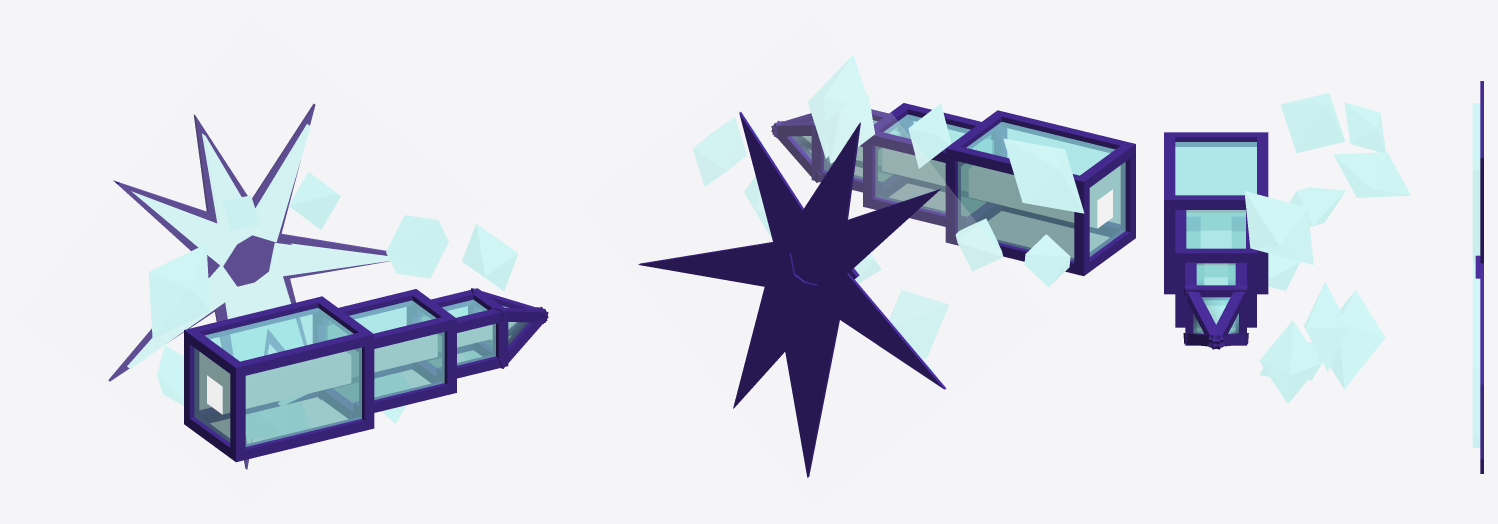
File: fx_spellpierce.glb
The picture shows the model from 3 angles, left to right: view 1: azimuth 30°, elevation 25°; view 2: azimuth 150°, elevation 25°; view 3: azimuth 270°, elevation 25°; orthographic projection.
Visible parts, largest first — view 1: spellpierce_FX_SpellPierce_Puncture_Glow3, spellpierce_FX_SpellPierce_Lance_Mesh2, spellpierce_FX_SpellPierce_Lance_Mesh3, spellpierce_FX_SpellPierce_Shards_Glow1, spellpierce_FX_SpellPierce_Puncture_Glow2, spellpierce_FX_SpellPierce_Puncture_Mesh1, spellpierce_FX_SpellPierce_Lance_Glow1; view 2: spellpierce_FX_SpellPierce_Puncture_Glow3, spellpierce_FX_SpellPierce_Puncture_Mesh1, spellpierce_FX_SpellPierce_Lance_Mesh2, spellpierce_FX_SpellPierce_Shards_Glow1, spellpierce_FX_SpellPierce_Lance_Mesh3, spellpierce_FX_SpellPierce_Lance_Glow1; view 3: spellpierce_FX_SpellPierce_Shards_Glow1, spellpierce_FX_SpellPierce_Lance_Mesh2, spellpierce_FX_SpellPierce_Lance_Mesh3, spellpierce_FX_SpellPierce_Puncture_Glow2, spellpierce_FX_SpellPierce_Lance_Glow1, spellpierce_FX_SpellPierce_Puncture_Mesh1, spellpierce_FX_SpellPierce_Puncture_Glow3.
Part boxes in pixels (bbox=[...]): spellpierce_FX_SpellPierce_Puncture_Glow3: bbox=[15, 15, 487, 508]; spellpierce_FX_SpellPierce_Lance_Mesh2: bbox=[184, 288, 548, 462]; spellpierce_FX_SpellPierce_Lance_Mesh3: bbox=[194, 299, 528, 446]; spellpierce_FX_SpellPierce_Shards_Glow1: bbox=[148, 171, 518, 438]; spellpierce_FX_SpellPierce_Puncture_Glow2: bbox=[127, 124, 389, 443]; spellpierce_FX_SpellPierce_Puncture_Mesh1: bbox=[108, 103, 389, 469]; spellpierce_FX_SpellPierce_Lance_Glow1: bbox=[207, 322, 516, 414]; spellpierce_FX_SpellPierce_Puncture_Glow3: bbox=[578, 15, 1050, 509]; spellpierce_FX_SpellPierce_Puncture_Mesh1: bbox=[638, 112, 946, 477]; spellpierce_FX_SpellPierce_Lance_Mesh2: bbox=[771, 103, 1135, 275]; spellpierce_FX_SpellPierce_Shards_Glow1: bbox=[692, 54, 1084, 358]; spellpierce_FX_SpellPierce_Lance_Mesh3: bbox=[791, 114, 1125, 260]; spellpierce_FX_SpellPierce_Lance_Glow1: bbox=[803, 136, 1112, 228]; spellpierce_FX_SpellPierce_Shards_Glow1: bbox=[1244, 93, 1410, 403]; spellpierce_FX_SpellPierce_Lance_Mesh2: bbox=[1164, 132, 1268, 349]; spellpierce_FX_SpellPierce_Lance_Mesh3: bbox=[1175, 142, 1256, 333]; spellpierce_FX_SpellPierce_Puncture_Glow2: bbox=[1472, 103, 1480, 447]; spellpierce_FX_SpellPierce_Lance_Glow1: bbox=[1201, 168, 1231, 323]; spellpierce_FX_SpellPierce_Puncture_Mesh1: bbox=[1475, 81, 1483, 473]; spellpierce_FX_SpellPierce_Puncture_Glow3: bbox=[1470, 14, 1471, 509].
Bounding box in the file's own units: 2.94 × 2.94 × 1.72.
